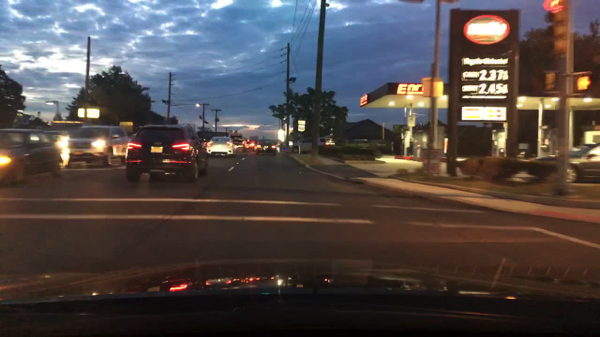car: (125, 124, 210, 184), (0, 128, 61, 185), (62, 125, 134, 168), (529, 143, 598, 186), (205, 137, 237, 159), (292, 137, 335, 153), (257, 138, 279, 156), (123, 131, 141, 144), (373, 140, 391, 152), (244, 139, 258, 151), (233, 138, 247, 150), (325, 135, 337, 143), (230, 134, 244, 140), (275, 142, 282, 151), (337, 139, 348, 144)
traffic light: (543, 11, 568, 55), (532, 71, 556, 90), (571, 73, 590, 96), (423, 78, 443, 98)
traffic sign: (78, 108, 99, 118), (298, 125, 305, 133), (298, 121, 305, 125), (288, 141, 293, 146), (331, 116, 336, 119), (328, 133, 333, 136), (329, 129, 333, 132)
